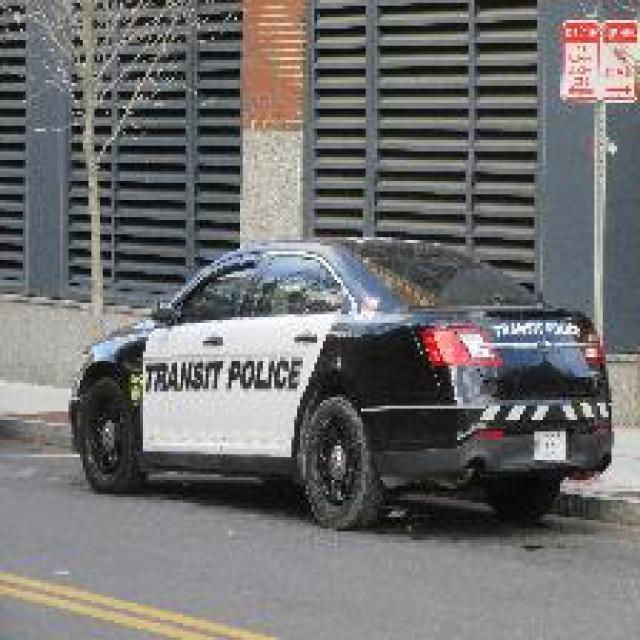emergency: (62, 228, 618, 532)
